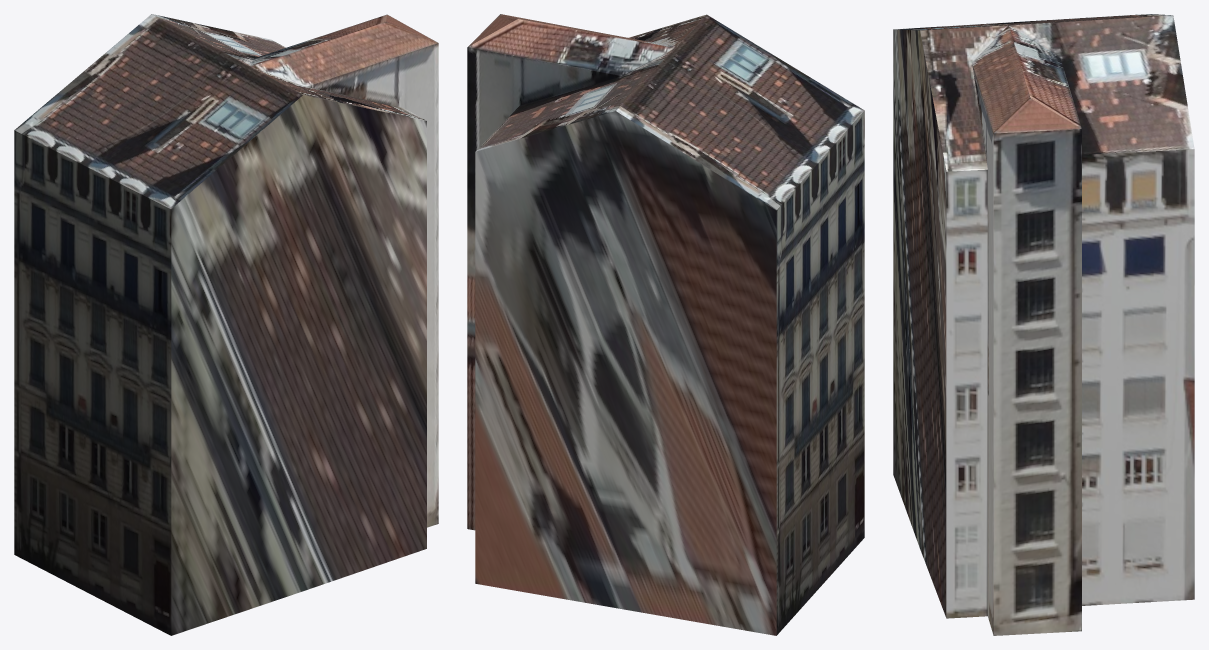
3 renders of one model, left to right at view 1: azimuth 30°, elevation 25°; view 2: azimuth 150°, elevation 25°; view 3: azimuth 270°, elevation 25°, orthographic. The views are drawn at different scales.
Visible parts, largest first — view 1: Z_UP; view 2: Z_UP; view 3: Z_UP.
Part boxes in pixels (x1,y1,x2,y2): Z_UP: (14,14,438,635); Z_UP: (467,14,864,635); Z_UP: (893,14,1194,635).
Size of the model in its own units: 19.98 by 27.14 by 14.25.
2 materials, 1 textured.
